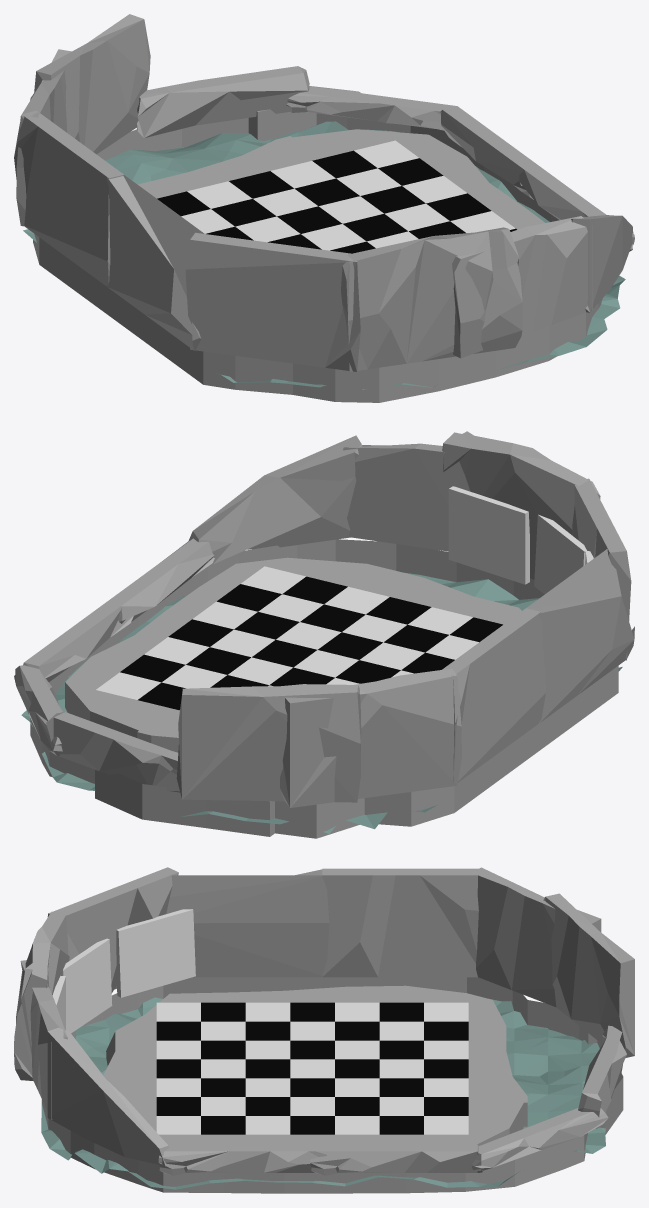
Rendered from Water_Puzzle_V2.fbx.
3 views of the same model, one above another, from view 1: azimuth 30°, elevation 25°; view 2: azimuth 150°, elevation 25°; view 3: azimuth 270°, elevation 25° (orthographic). The views are drawn at different scales.
Parts seen in each view (by area): view 1: pPlane1, pPlane3, pCube11, pCube12, pCube2, pCube1, pCube13, pCube19, pCube7, pPlane4, pCube10, pCube15 (+3 smaller); view 2: pPlane1, pPlane3, pCube3, pCube19, pCube14, pCube2, pCube1, pCube13, pCube12, pCube16, pCube7, pCube6 (+5 smaller); view 3: pPlane3, pPlane1, pCube2, pCube1, pPlane4, pCube19, pCube3, pCube14, pCube17, pCube11, pCube15, pCube6 (+5 smaller).
Part boxes in pixels (x1,y1,x2,y2): pPlane1: (33, 109, 602, 402); pPlane3: (157, 140, 516, 253); pCube11: (185, 232, 360, 371); pCube12: (341, 227, 522, 371); pCube2: (14, 110, 123, 286); pCube1: (107, 175, 204, 350); pCube13: (452, 216, 592, 358); pCube19: (34, 14, 150, 154); pCube7: (136, 66, 309, 138); pPlane4: (23, 121, 625, 389); pCube10: (285, 86, 456, 130); pCube15: (440, 106, 544, 196); pPlane1: (30, 539, 618, 838); pPlane3: (96, 566, 502, 710); pCube3: (280, 668, 461, 807); pCube19: (176, 684, 361, 802); pCube14: (188, 435, 362, 564); pCube2: (442, 608, 545, 783); pCube1: (526, 549, 634, 723); pCube13: (343, 443, 470, 551); pCube12: (442, 431, 600, 579); pCube16: (448, 486, 529, 584); pCube7: (46, 712, 180, 792); pCube6: (106, 538, 214, 623); pPlane3: (156, 1002, 468, 1134); pPlane1: (42, 977, 623, 1193); pCube2: (322, 868, 484, 977); pCube1: (166, 869, 329, 977); pPlane4: (41, 997, 605, 1189); pCube19: (543, 893, 634, 1057); pCube3: (471, 867, 601, 1006); pCube14: (47, 1027, 169, 1165); pCube17: (116, 909, 195, 997); pCube11: (47, 867, 178, 993); pCube15: (310, 1144, 482, 1175); pCube6: (158, 1144, 326, 1175).
Size of the model in its own units: 29.66 by 9.94 by 38.46.
